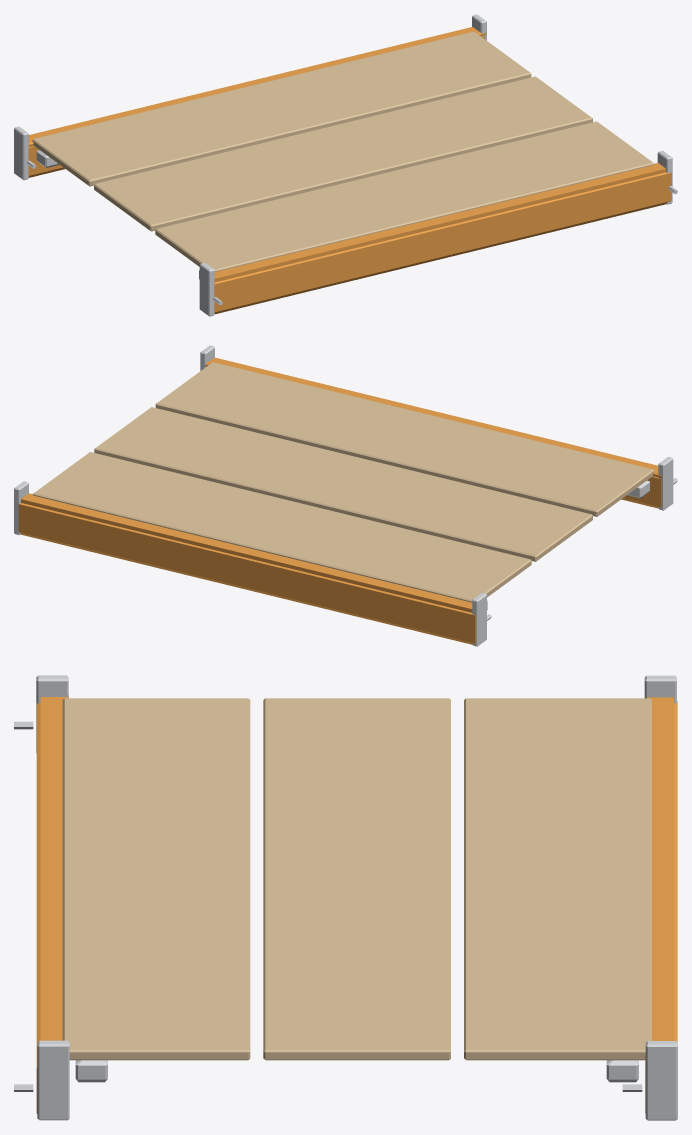
Rendered from pallet-rack-beam-pair-with-timber-deck.glb.
3 renders of one model, top to bottom at view 1: azimuth 30°, elevation 25°; view 2: azimuth 150°, elevation 25°; view 3: azimuth 270°, elevation 25°, orthographic. The views are drawn at different scales.
Visible parts, largest first — view 1: pallet-rack-beam-level-timber; view 2: pallet-rack-beam-level-timber; view 3: pallet-rack-beam-level-timber.
Boxes of the visible parts, <box> form: pallet-rack-beam-level-timber: <box>14,14,677,316</box>; pallet-rack-beam-level-timber: <box>14,345,677,646</box>; pallet-rack-beam-level-timber: <box>14,675,677,1120</box>.
Bounding box in the file's own units: 1.35 × 0.13 × 1.03.
